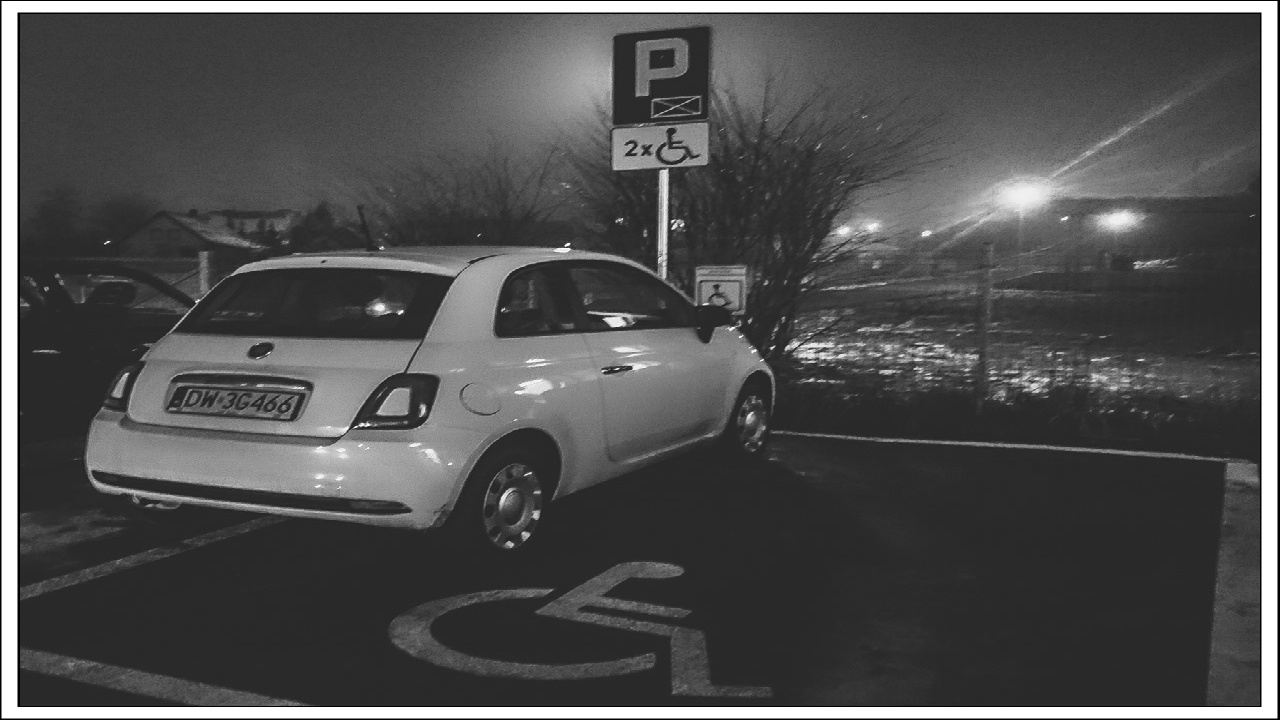D18: (609, 25, 709, 122)
